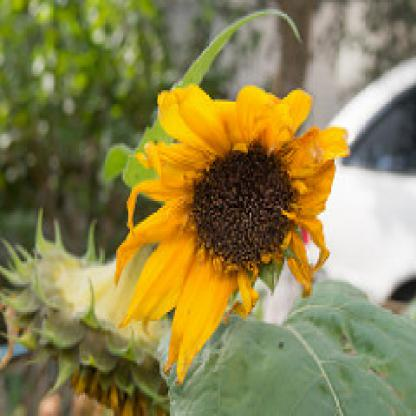SUN FLOWER: (105, 61, 356, 382)
